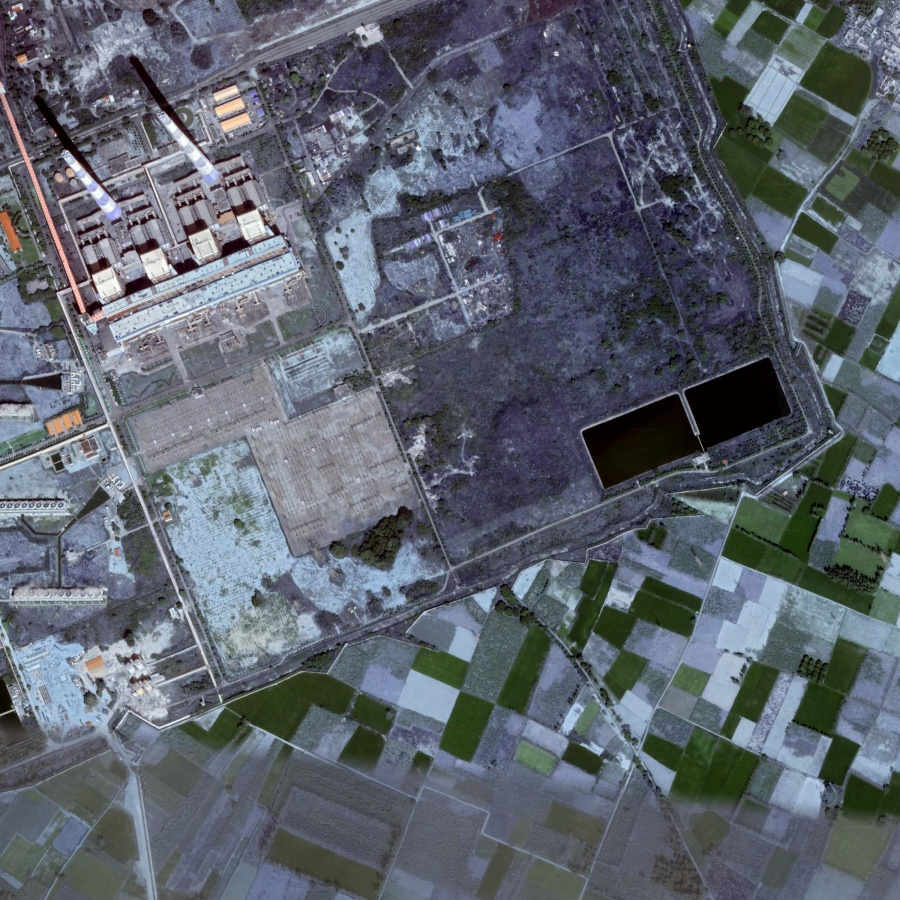PowerPlant: (23, 48, 260, 254), (561, 337, 802, 523)
